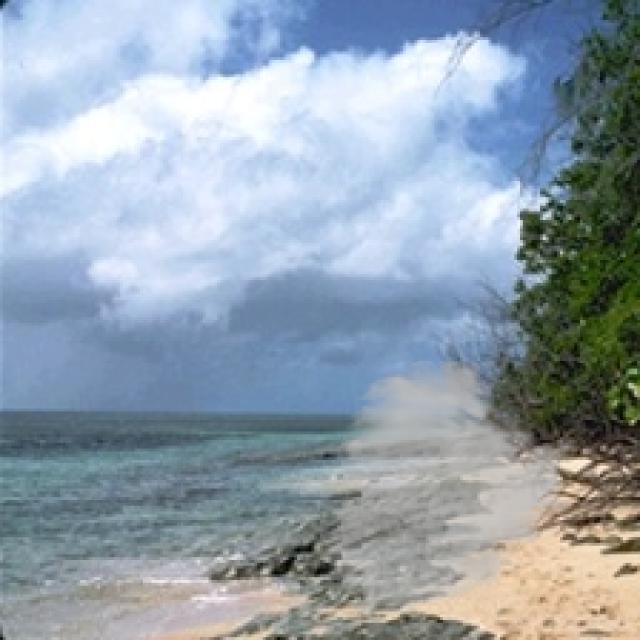smoke: (317, 354, 580, 614)
